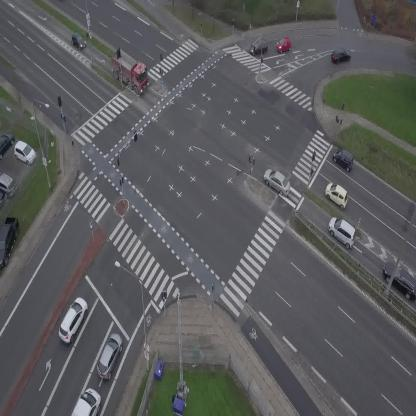car: (54, 294, 92, 346), (93, 331, 128, 381), (322, 213, 363, 251), (259, 165, 295, 198), (321, 180, 353, 210), (329, 145, 358, 172), (329, 46, 352, 66), (68, 31, 88, 51), (247, 38, 269, 56), (277, 37, 291, 52)
lorry: (102, 47, 157, 97), (71, 385, 105, 416)
